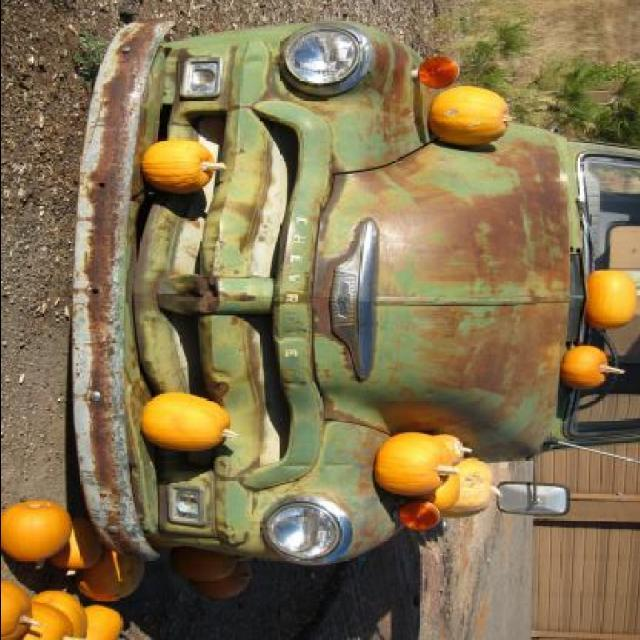Pumpkin: (140, 390, 236, 452), (376, 430, 459, 498), (427, 85, 511, 146), (1, 497, 72, 563), (138, 138, 226, 190), (443, 458, 503, 520), (583, 269, 639, 331), (556, 344, 620, 390), (29, 590, 86, 638), (172, 546, 250, 580), (1, 574, 38, 638), (30, 601, 87, 639), (196, 563, 250, 597), (420, 472, 462, 514), (82, 603, 124, 640), (434, 434, 472, 466)
